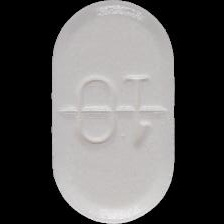51138-062: (0, 0, 224, 224)
